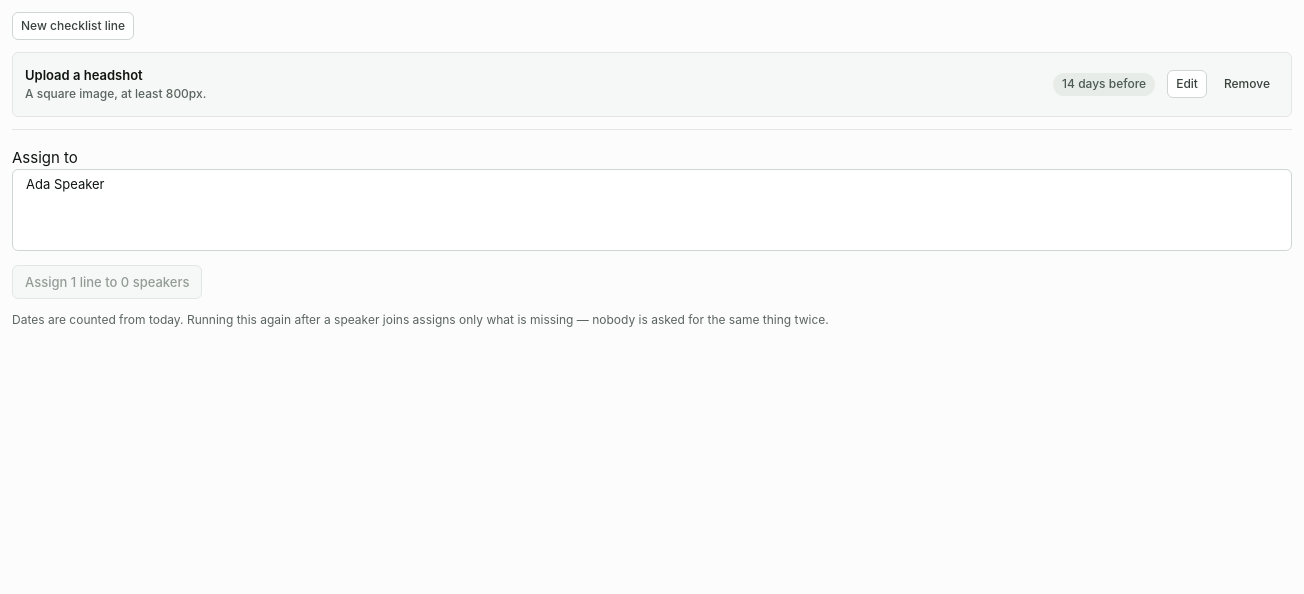
Test case: speaker checklist authoring › says what a removal does not touch
Click the button named "Remove Upload a headshot".
click(1247, 84)  # box [1215,70,1279,98]
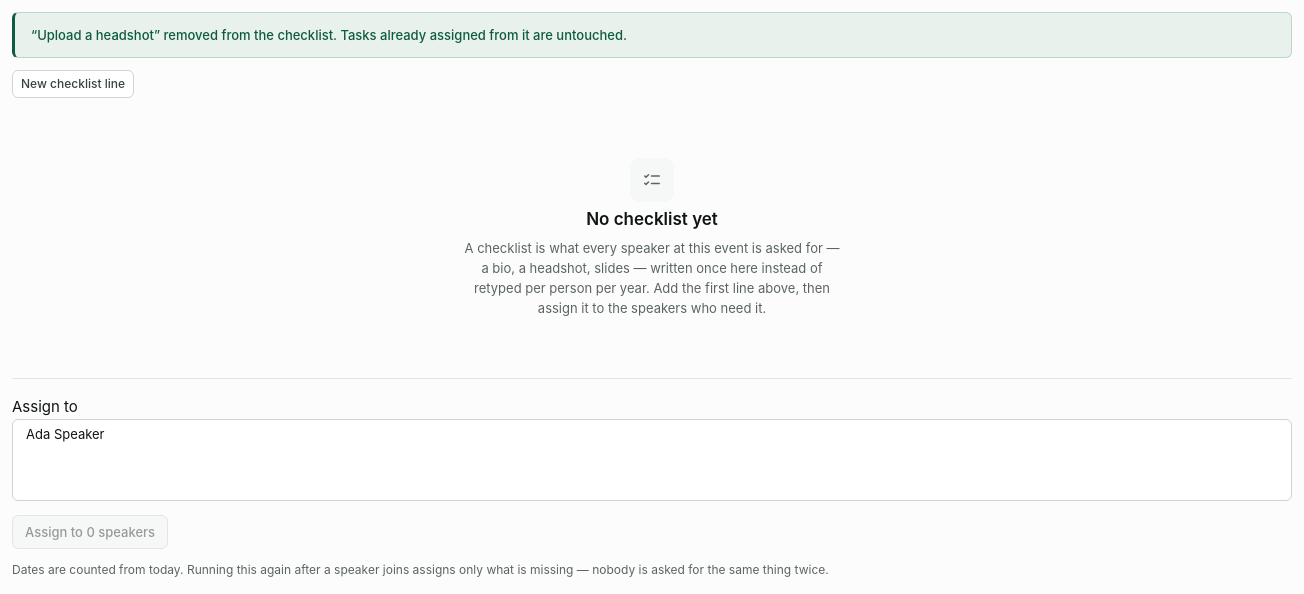
expect the text "Tasks already assigned from it are untouched" is shown: met, box [31,27,627,43]
